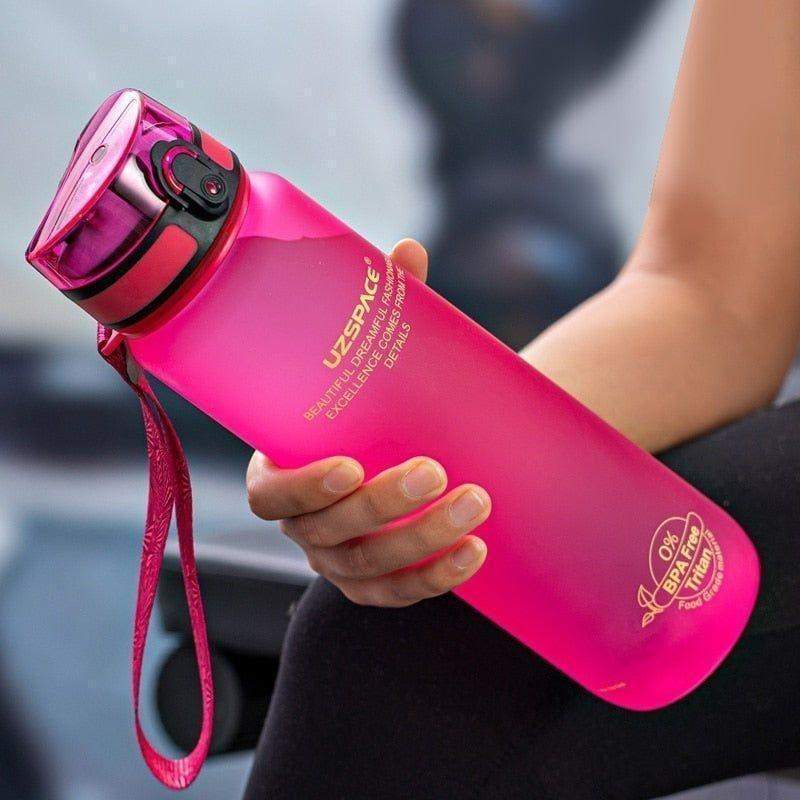gym bottle: (24, 87, 761, 709)
